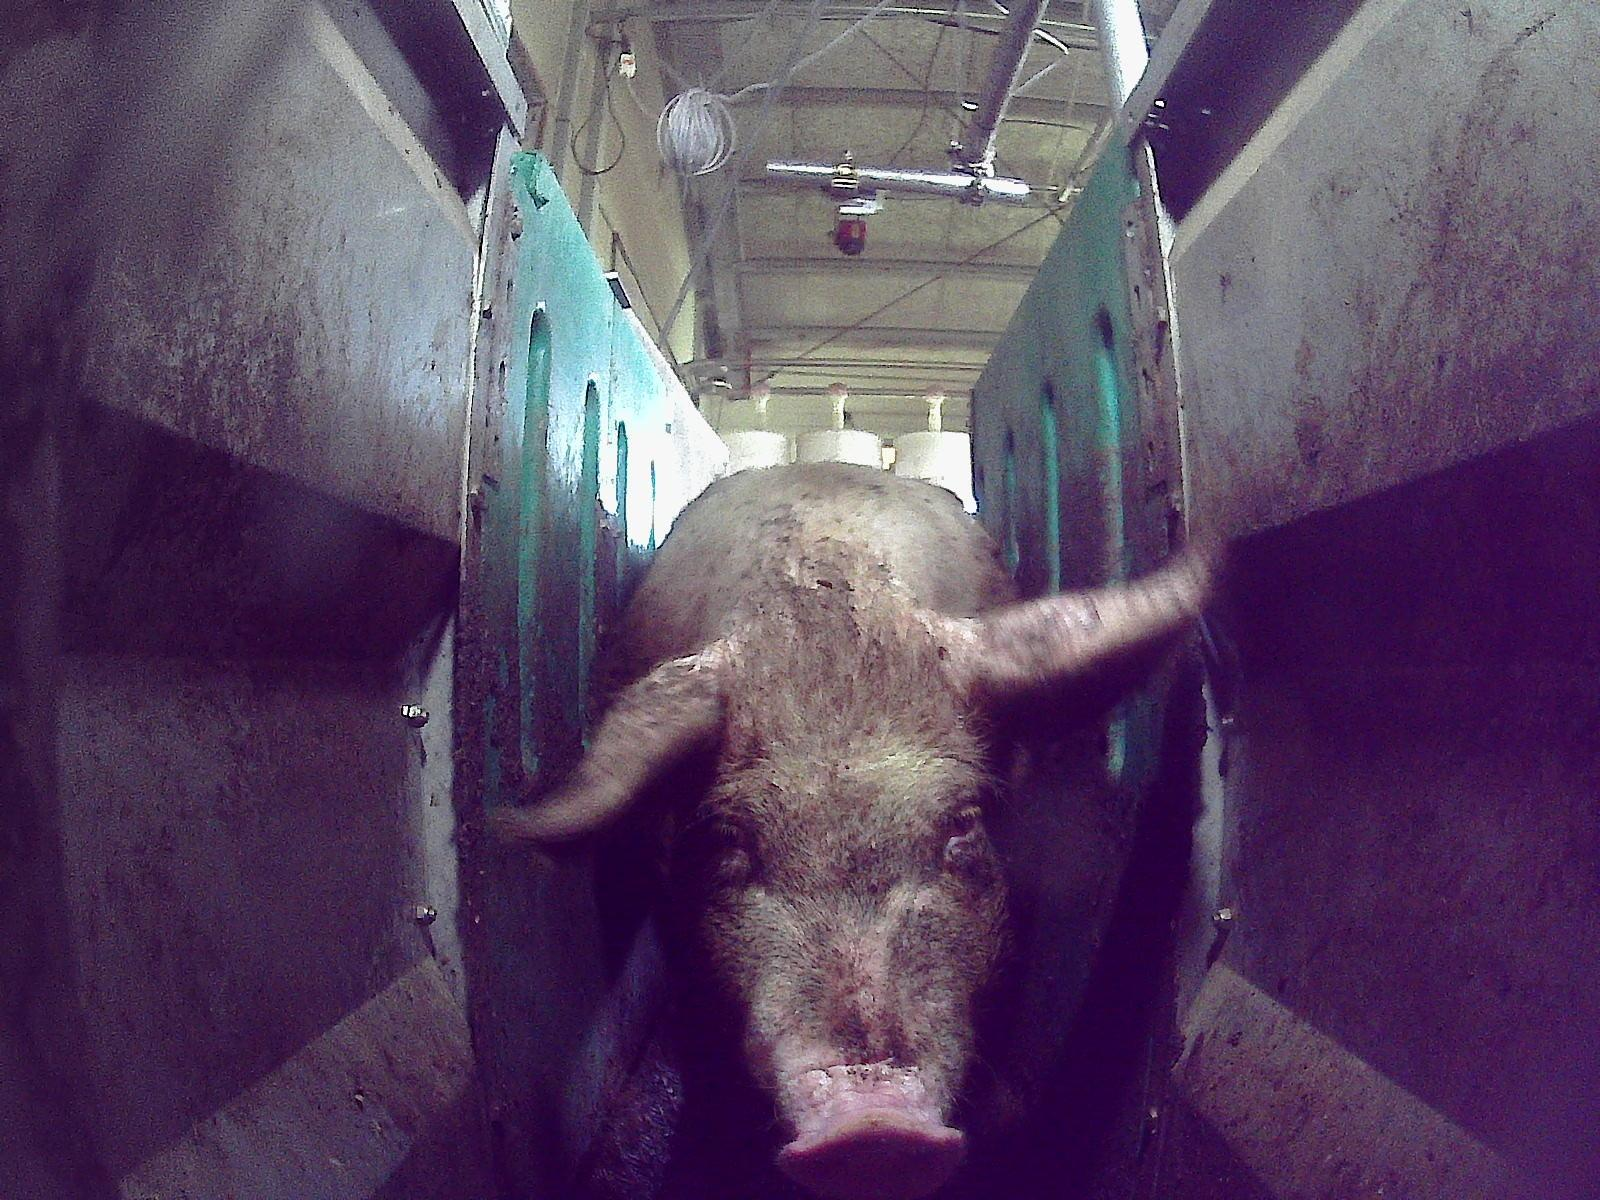Face: (655, 582, 1020, 1199)
